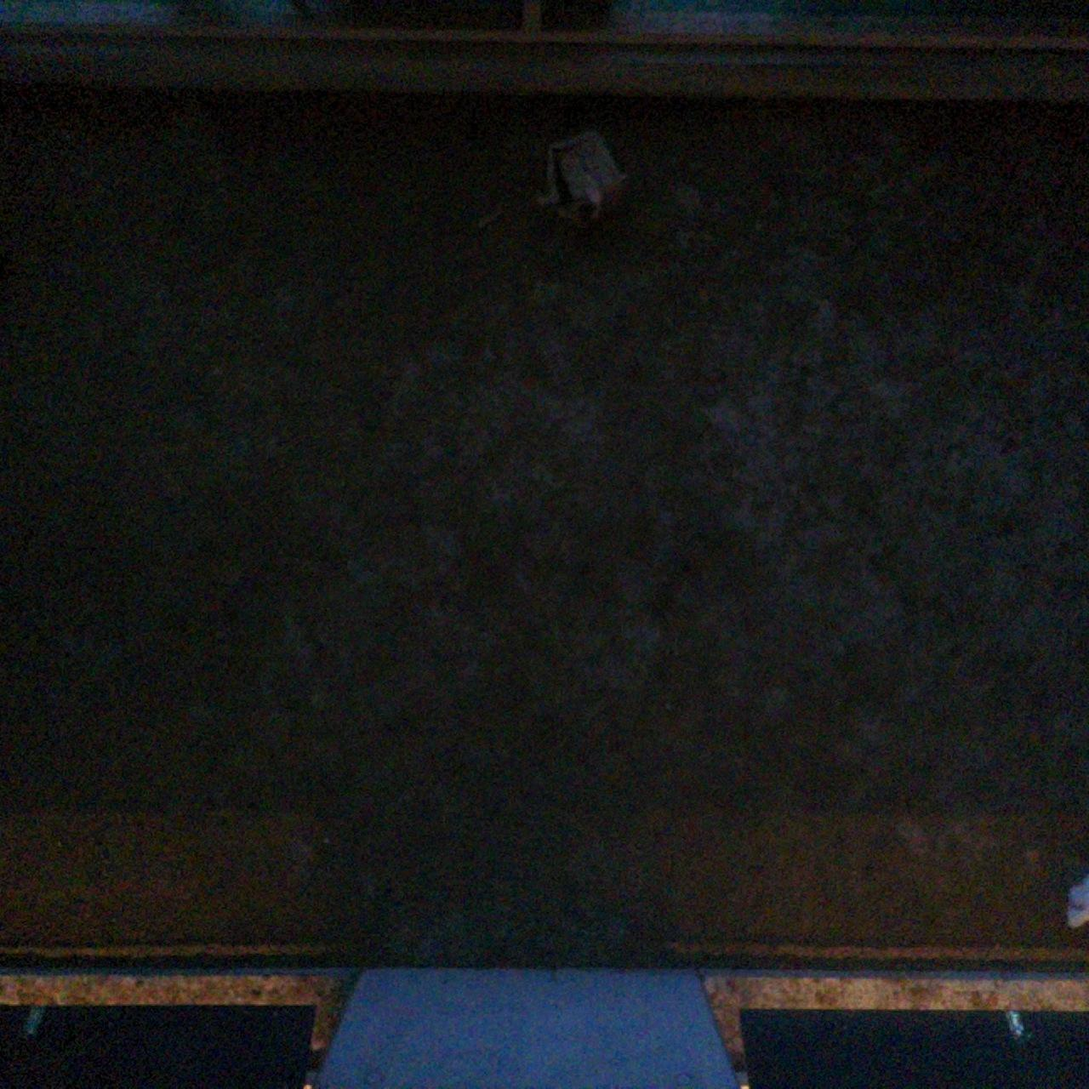chicken: (1059, 865, 1089, 933)
